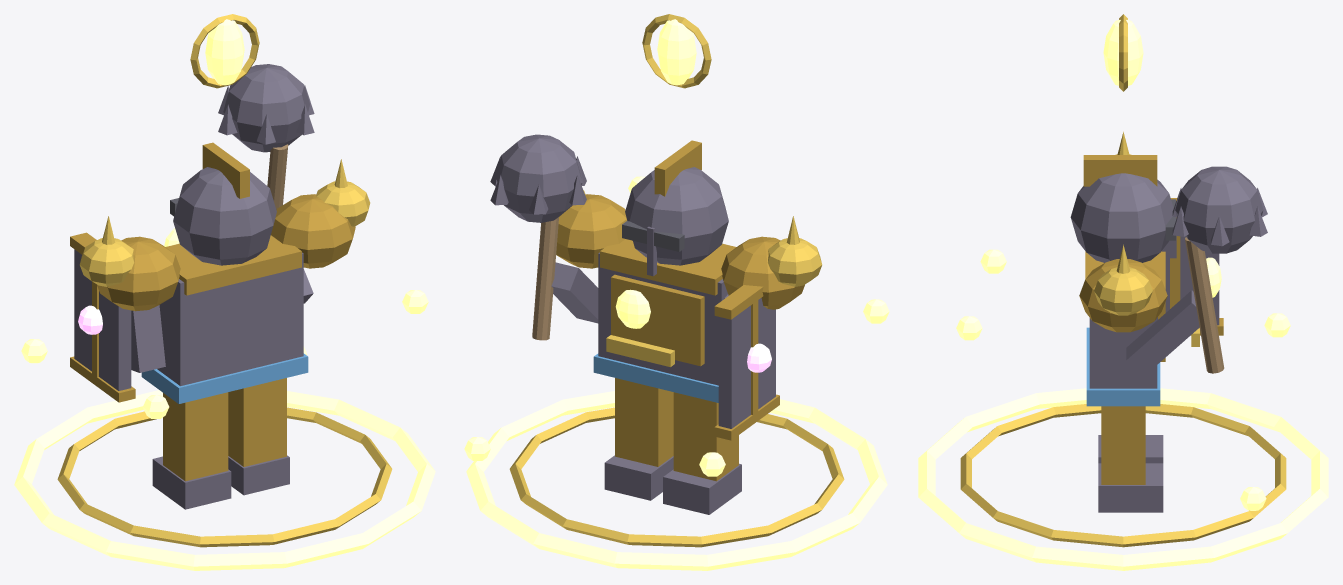
File: hero_dark_prince.glb
The picture shows the model from 3 angles, left to right: view 1: azimuth 30°, elevation 25°; view 2: azimuth 150°, elevation 25°; view 3: azimuth 270°, elevation 25°; orthographic projection.
Parts seen in each view (by area): view 1: hero_dark_prince; view 2: hero_dark_prince; view 3: hero_dark_prince.
Boxes of the visible parts, bbox=[...] form: hero_dark_prince: bbox=[14, 14, 435, 570]; hero_dark_prince: bbox=[464, 14, 889, 570]; hero_dark_prince: bbox=[918, 14, 1328, 570].
Bounding box in the file's own units: 3.2 × 3.93 × 3.12.
